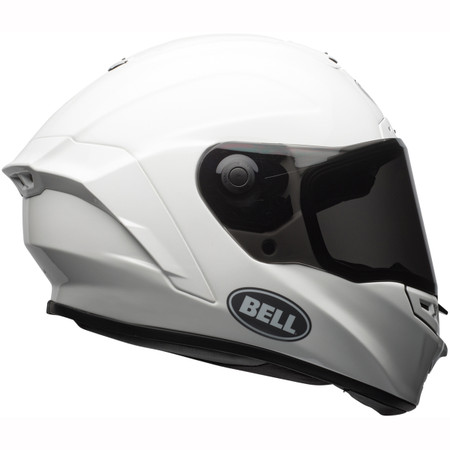with_helmet: (1, 26, 450, 419)
